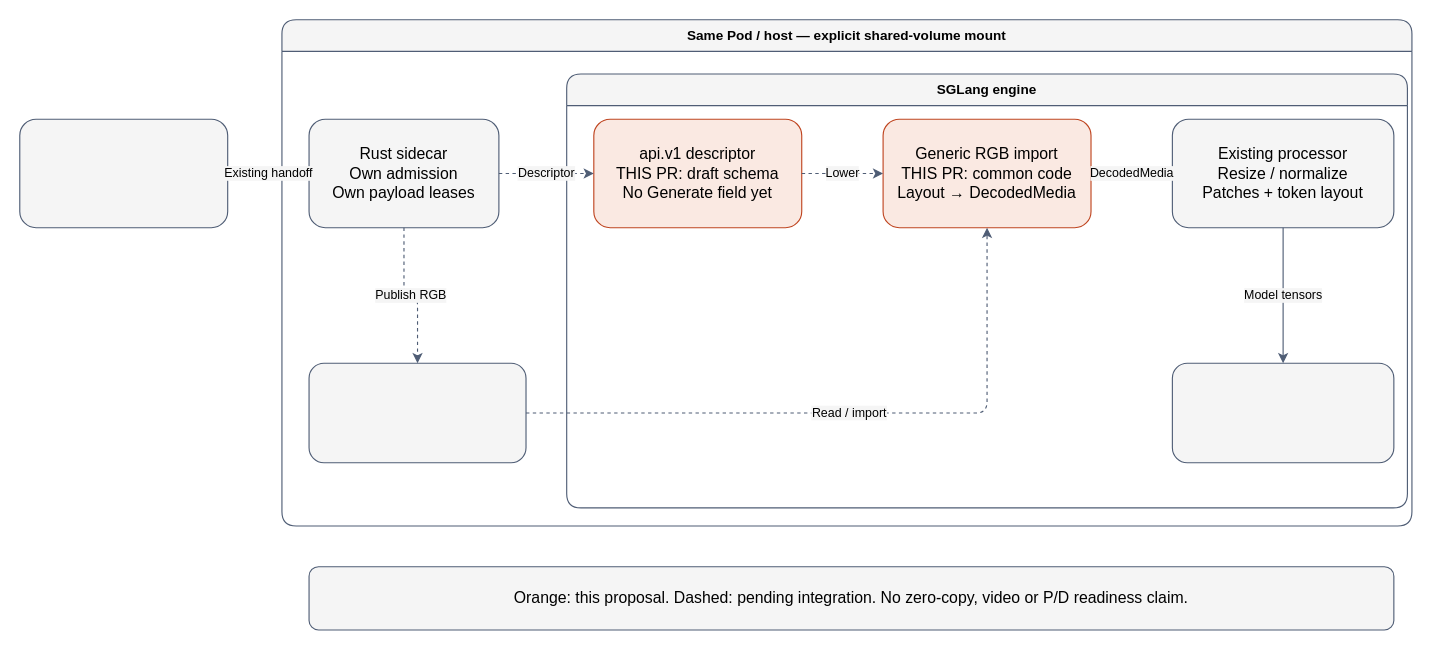
Some shapes in this 1432 by 650 pixel diagram are drawn without their labels. Here are the shapes that lost their labels. From the top down, the box of each, then its label:
(19, 118, 228, 228): Frontend Decode / sample Keep frame semantics
(308, 362, 526, 463): Shared CPU memory Immutable RGB8 Opener/mapping: TODO
(1171, 362, 1394, 463): Vision + LLM Existing execution No new model adapter
